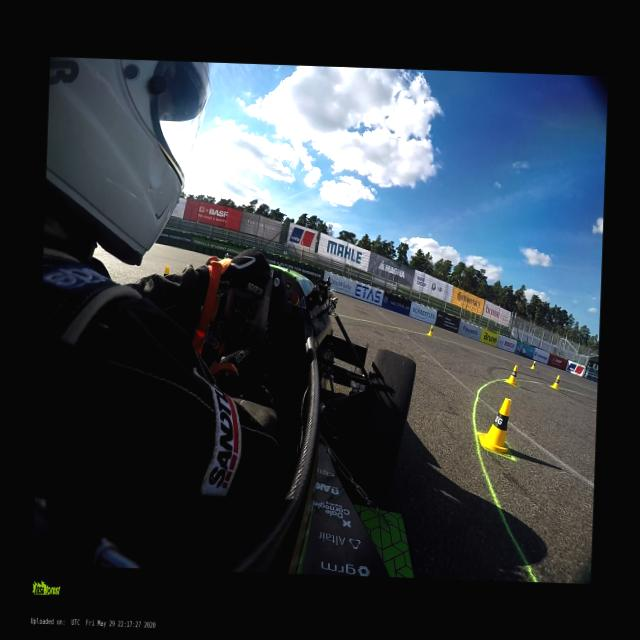yellow_cone: (476, 396, 513, 456), (505, 364, 517, 386), (550, 374, 560, 389), (428, 324, 432, 336), (530, 361, 534, 368)
